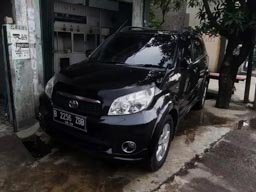plat: (54, 109, 87, 130)
